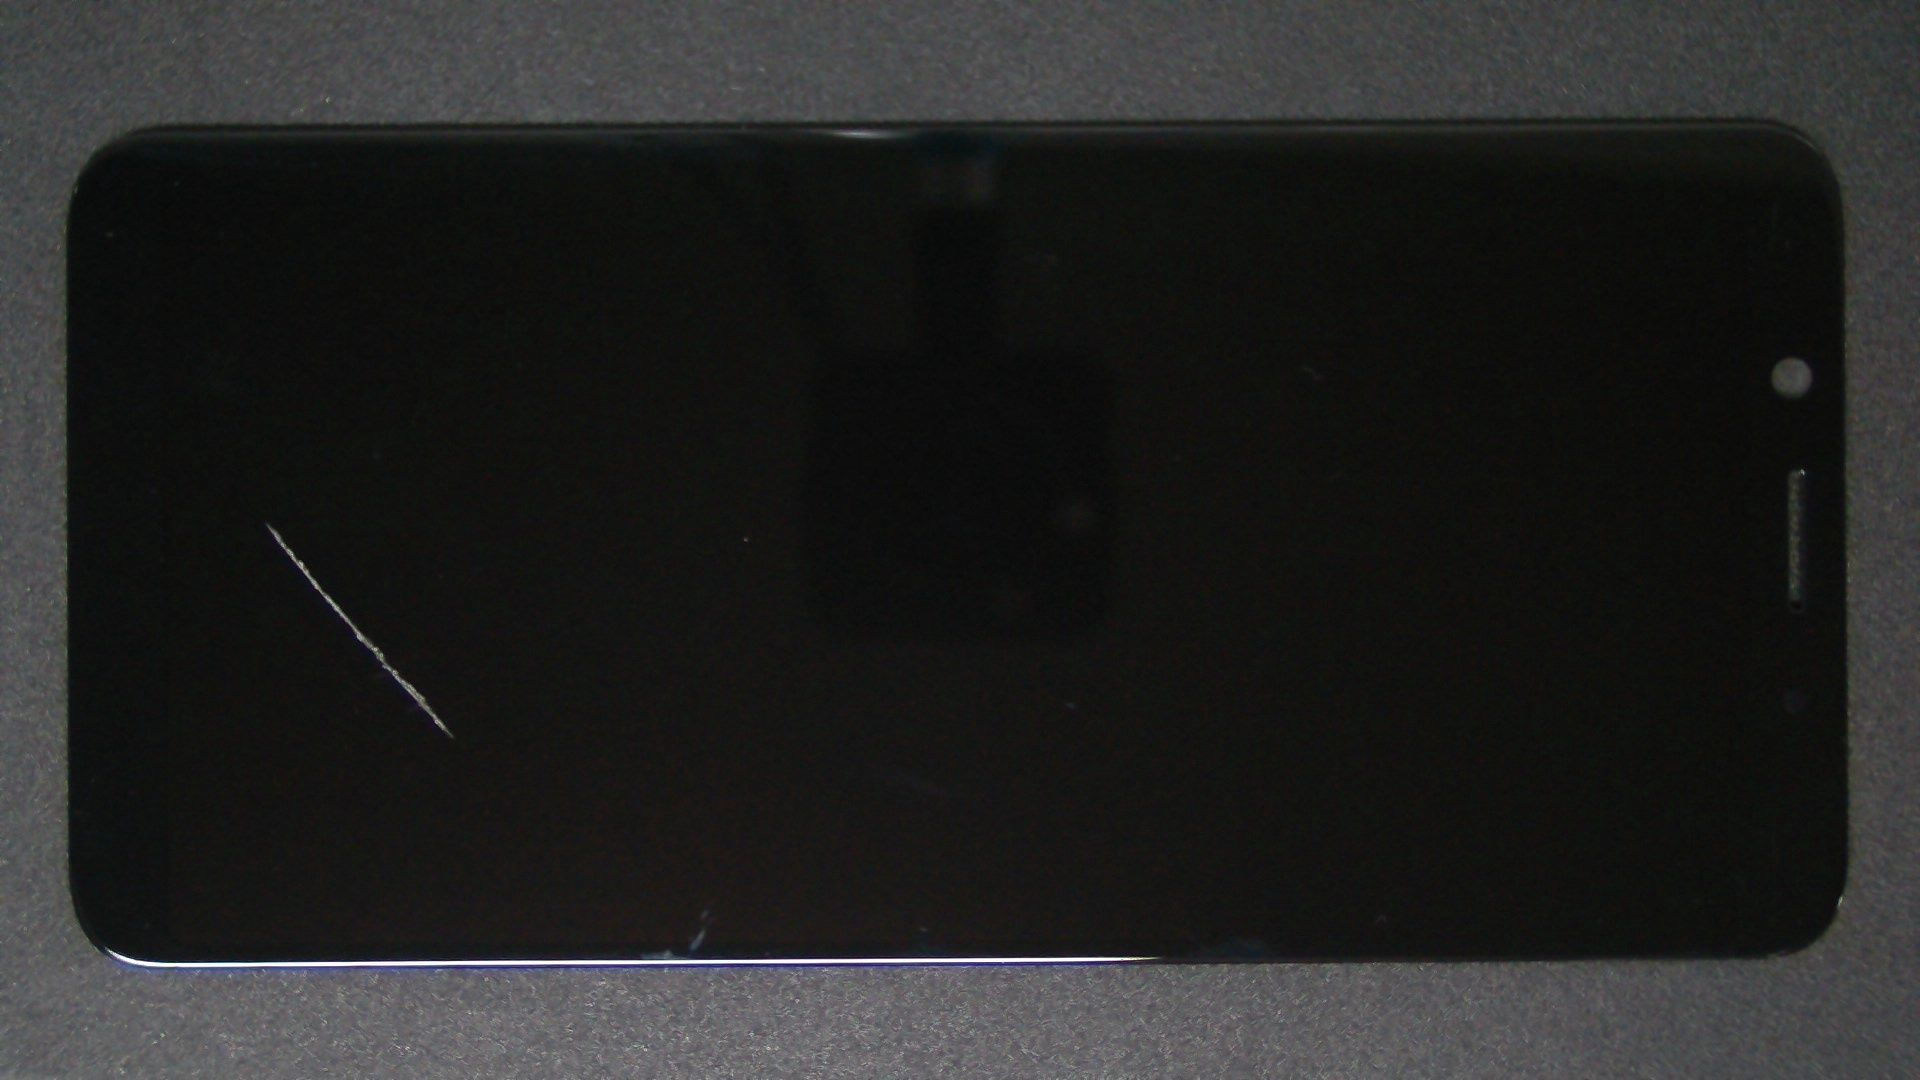oil: (135, 261, 400, 783)
